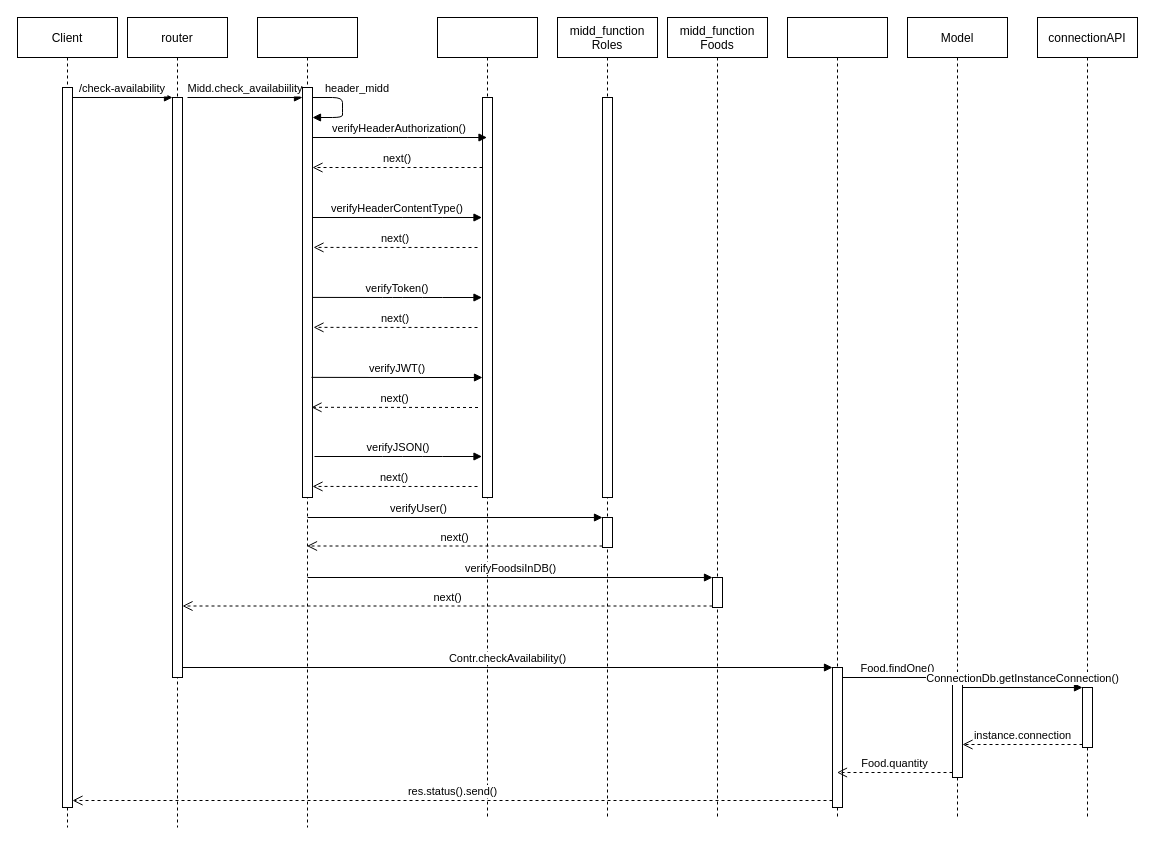
Image size: 1155x845. Some labels were removed from this diagram. The shapes that lost their labels are listed below. From the top down, each one's box as (x1, y1, x2, y2) in pixels, then its label:
(256, 16, 358, 828): midd_route
(436, 16, 538, 818): midd_function Generic
(786, 16, 888, 818): Controller
